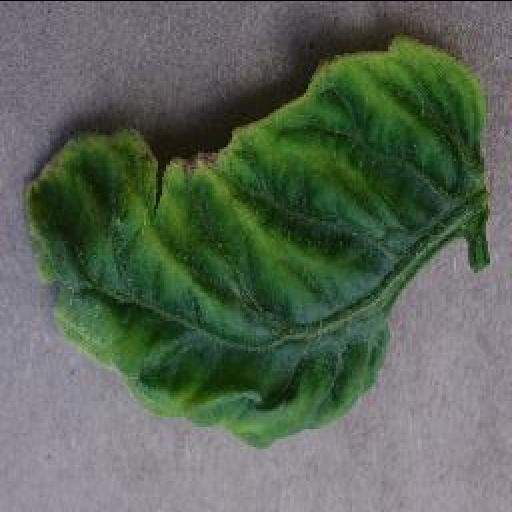disease_tomato: (20, 30, 490, 448)
